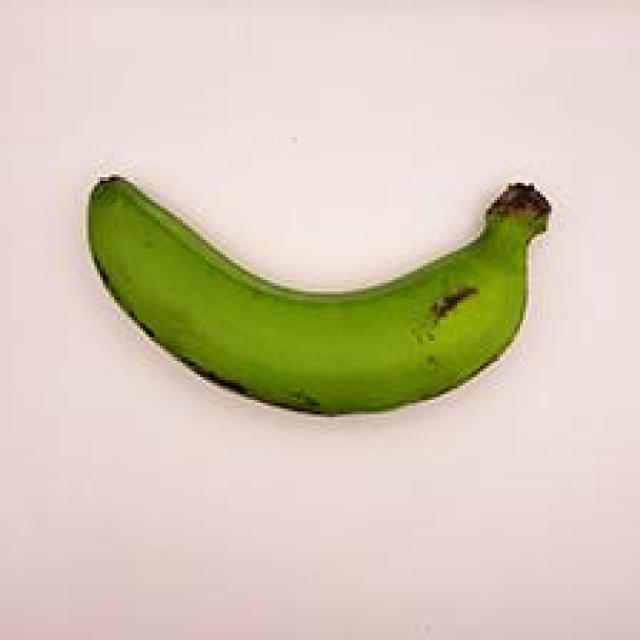Raw: (60, 120, 570, 455)
